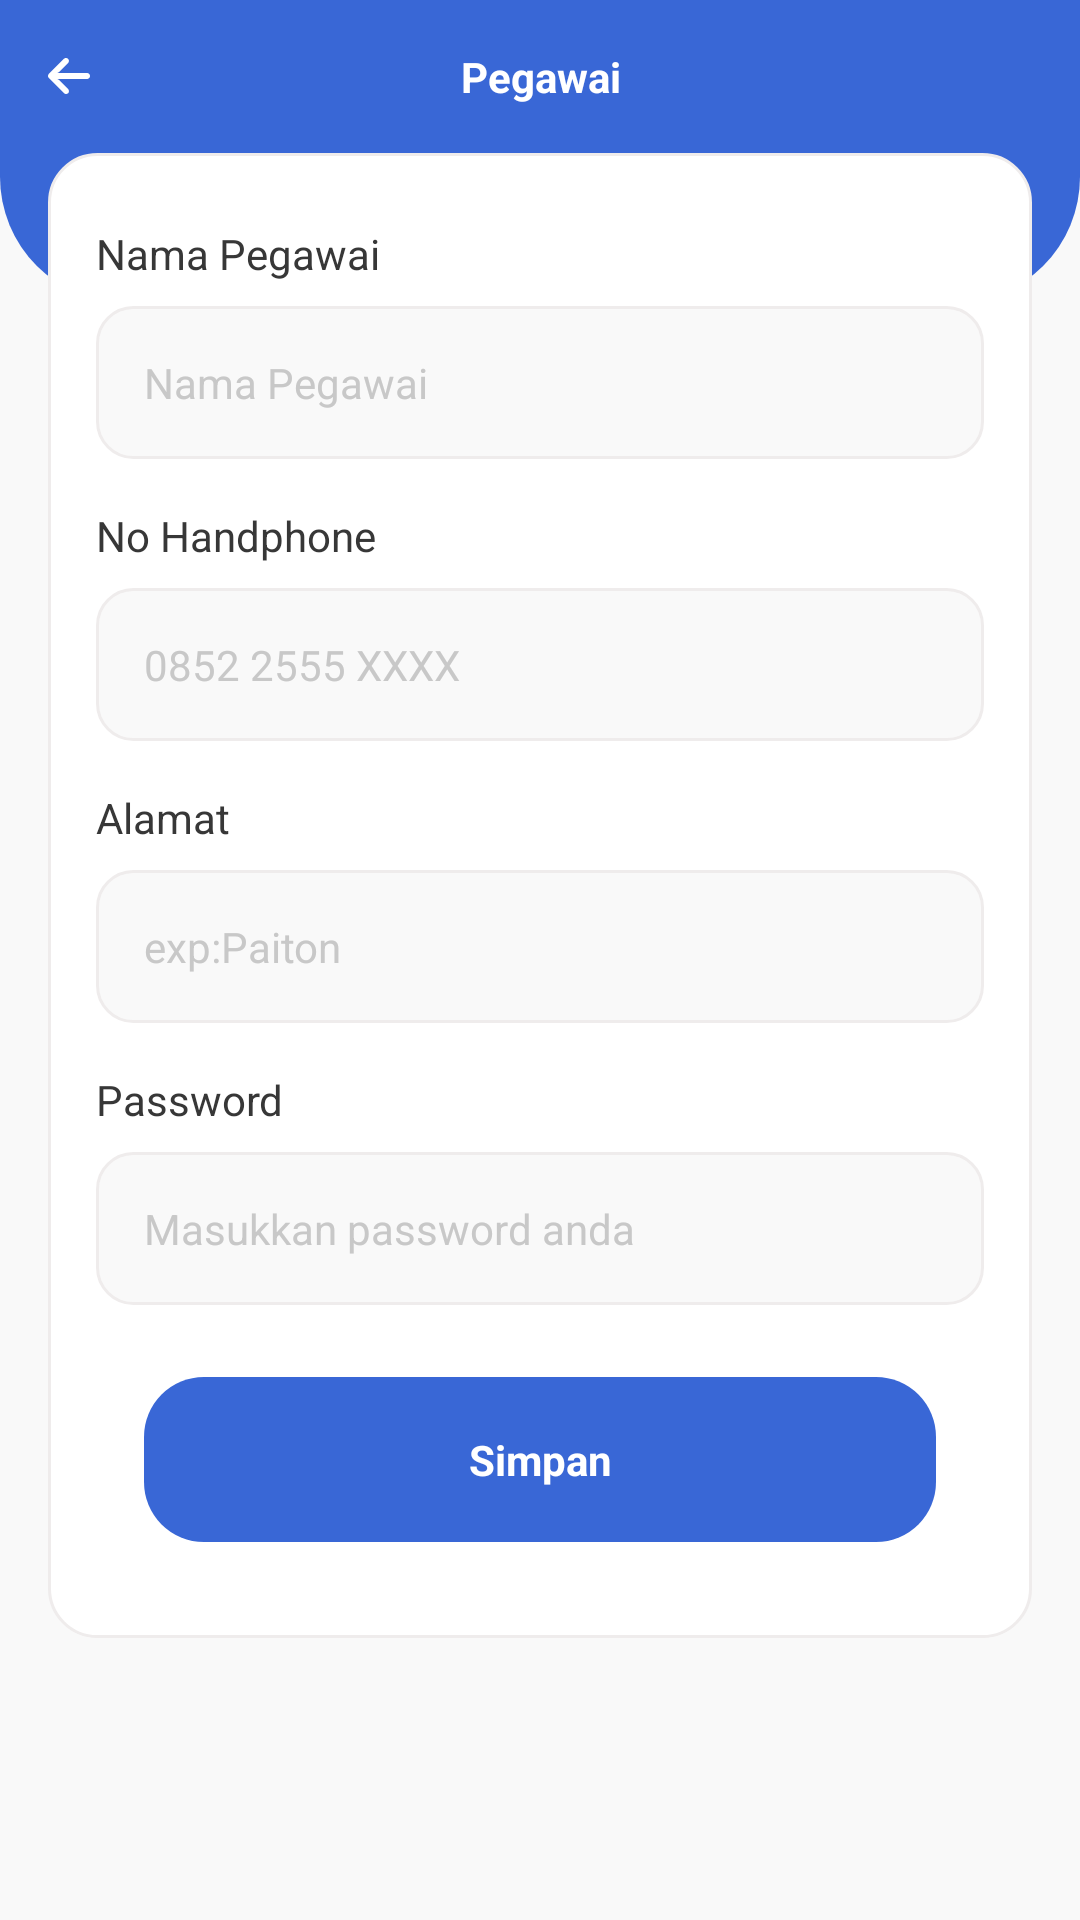

Icons on this 1080w x 1920h Android screen, each with the point to tap as point (x, y):
arrow: point (69, 76)
